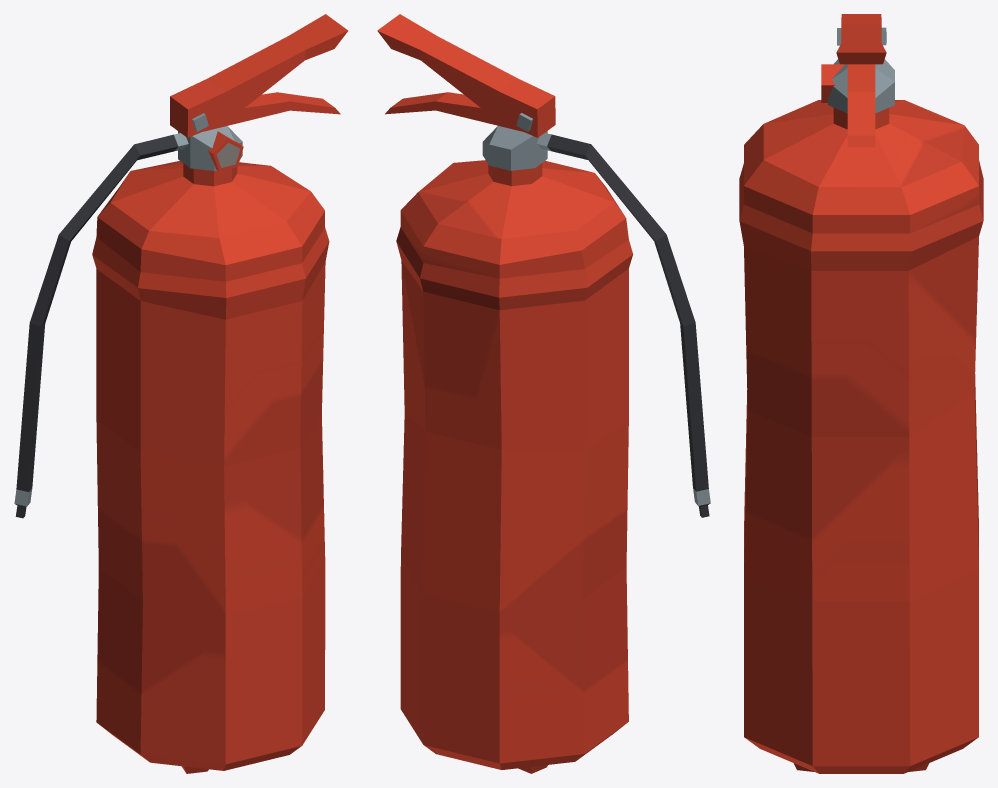
The model's file is SM_Fire_Extinguisher.gltf.
3 views of the same model, side by side, from view 1: azimuth 30°, elevation 25°; view 2: azimuth 150°, elevation 25°; view 3: azimuth 270°, elevation 25° (orthographic). The views are drawn at different scales.
Parts seen in each view (by area): view 1: SM_Fire_Extinguisher; view 2: SM_Fire_Extinguisher; view 3: SM_Fire_Extinguisher.
Part boxes in pixels (x1=…): SM_Fire_Extinguisher: x1=14, y1=14, x2=348, y2=773; SM_Fire_Extinguisher: x1=377, y1=14, x2=710, y2=773; SM_Fire_Extinguisher: x1=739, y1=14, x2=983, y2=773.
Bounding box in the file's own units: 0.3552 × 0.7248 × 0.2108.
Materials: 1 (1 with a texture image).
